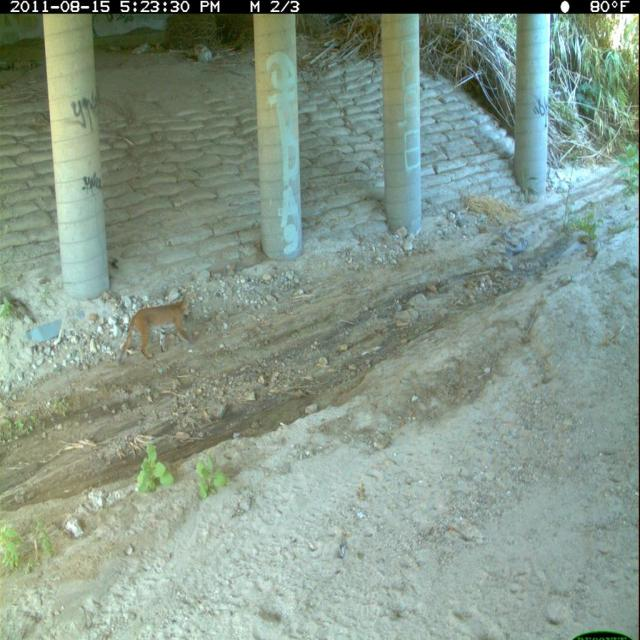bobcat: (114, 290, 196, 370)
rabbit: (185, 304, 200, 351)
